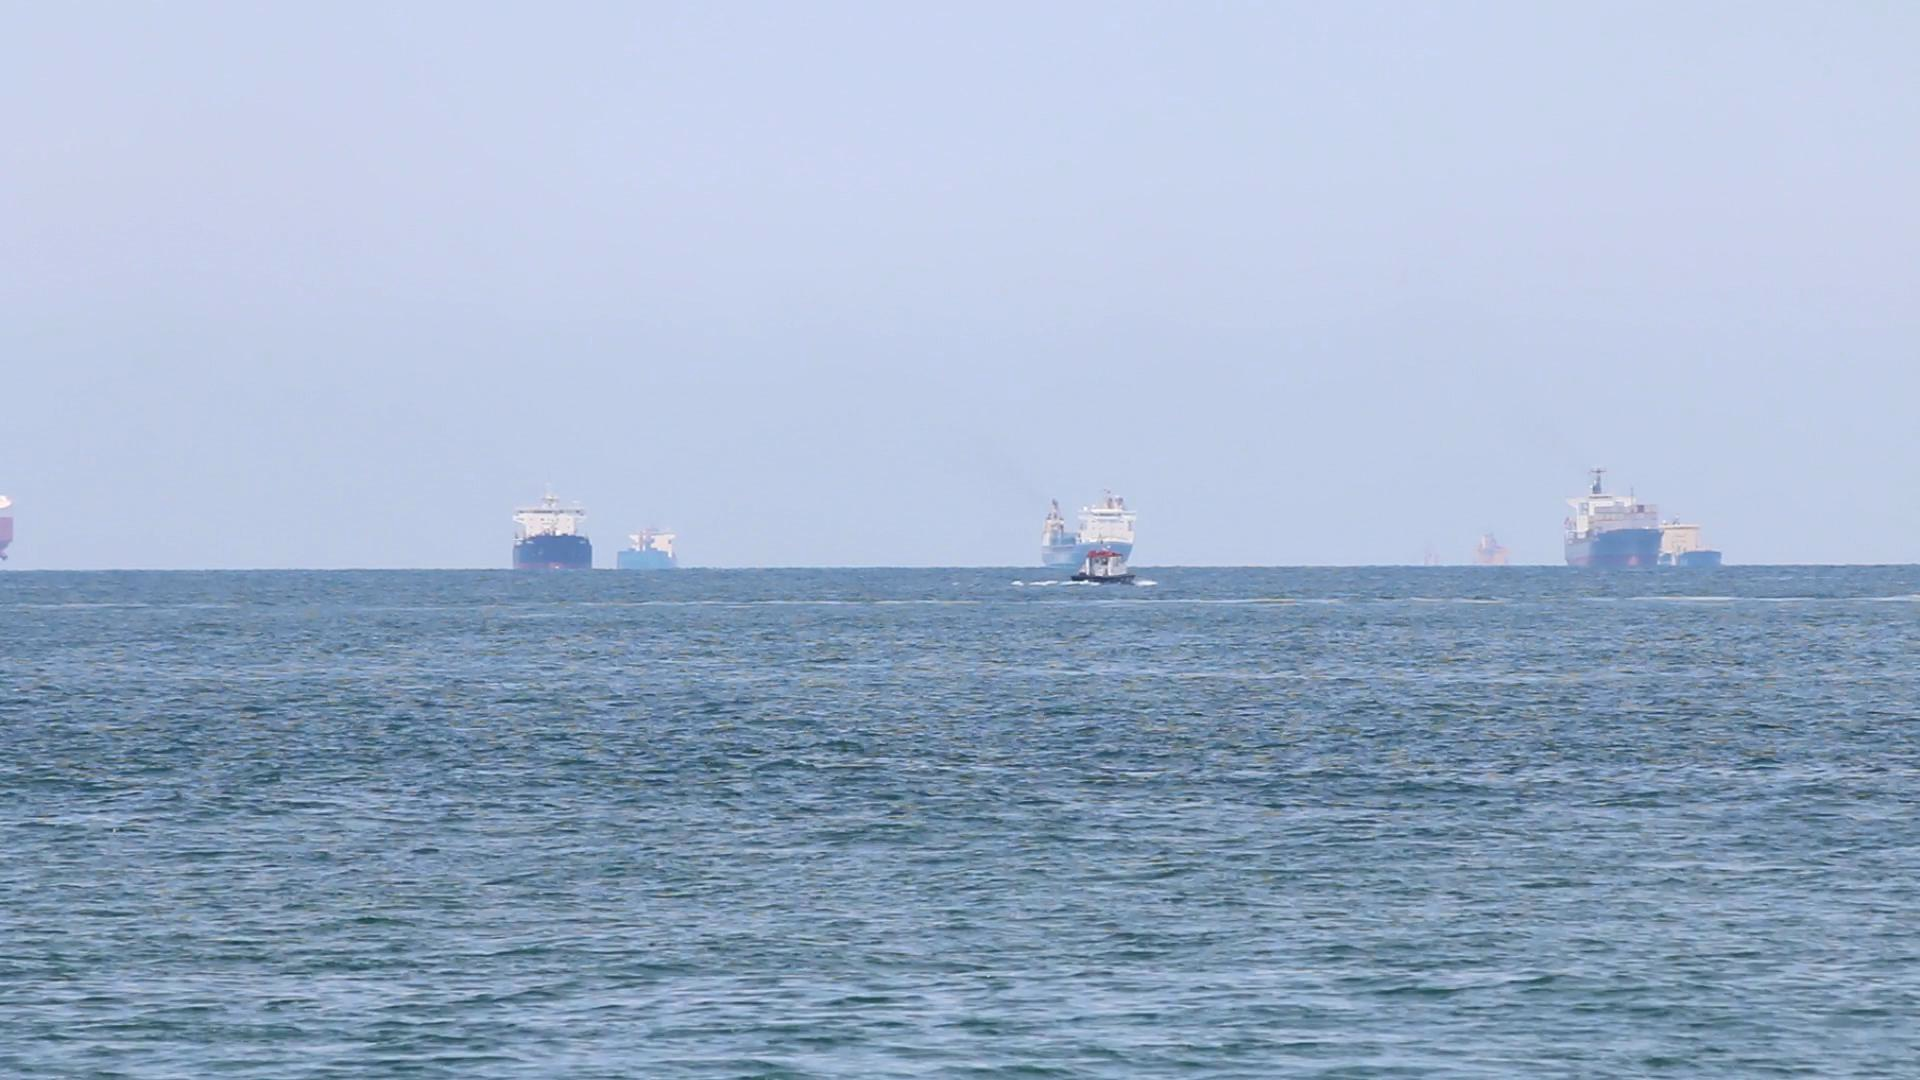Container Ship: (1559, 460, 1651, 572), (500, 479, 597, 580), (1029, 484, 1131, 580), (1059, 521, 1151, 595), (611, 520, 683, 584), (1652, 509, 1717, 574), (1473, 525, 1524, 572)
